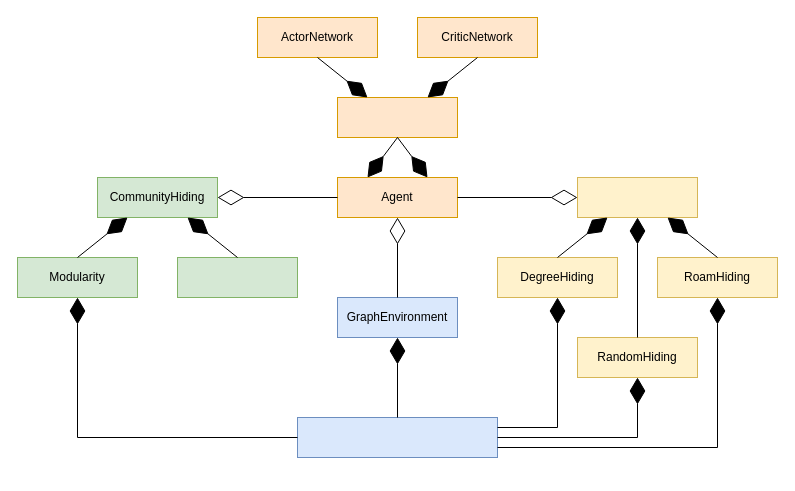
This 795x491 diagram has some shape labels left out. The shapes that lost their labels are listed below. From the top down, each one's centre as x and y in pixels, then its label:
At point 397,117: "ActorCritic".
At point 637,197: "NodeHiding".
At point 237,277: "Safeness".
At point 397,437: "CommunityDetectionAlgorithm".
